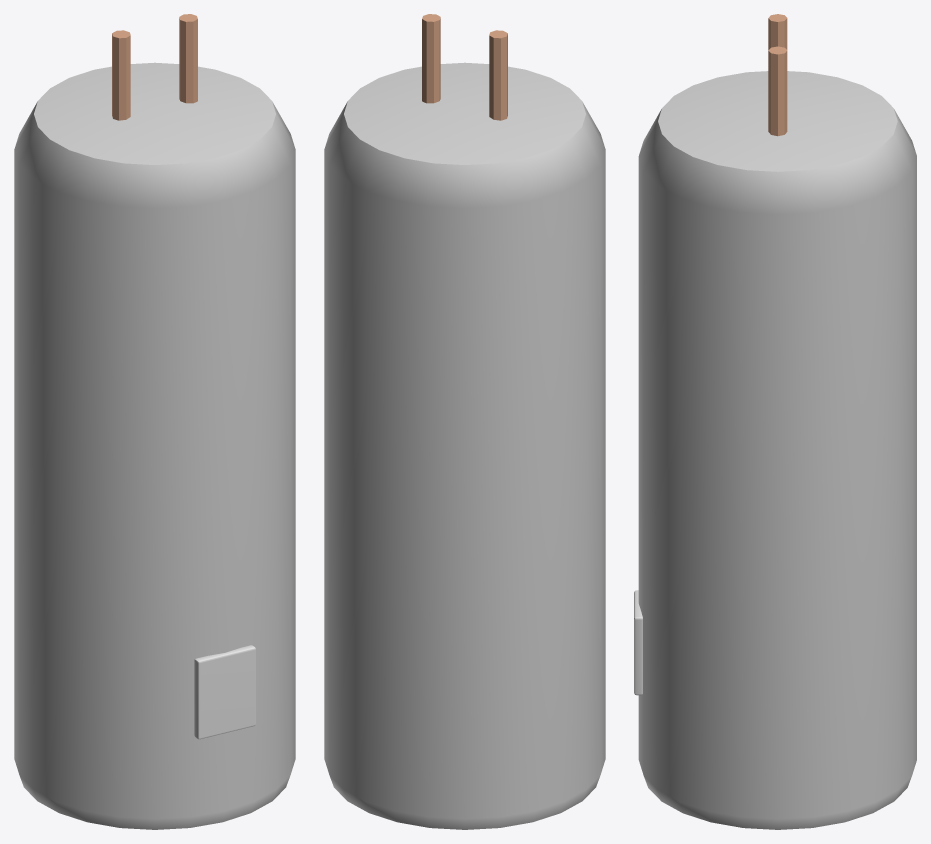
File: SM_WaterHeater.fbx
3 views of the same model, side by side, from view 1: azimuth 30°, elevation 25°; view 2: azimuth 150°, elevation 25°; view 3: azimuth 270°, elevation 25° (orthographic).
Visible parts, largest first — view 1: SM_WaterHeater_1; view 2: SM_WaterHeater_1; view 3: SM_WaterHeater_1.
Part boxes in pixels (x1,y1,x2,y2): SM_WaterHeater_1: (14,14,295,829); SM_WaterHeater_1: (324,14,605,829); SM_WaterHeater_1: (634,14,916,829).
Bounding box in the file's own units: 58 × 170 × 59.
